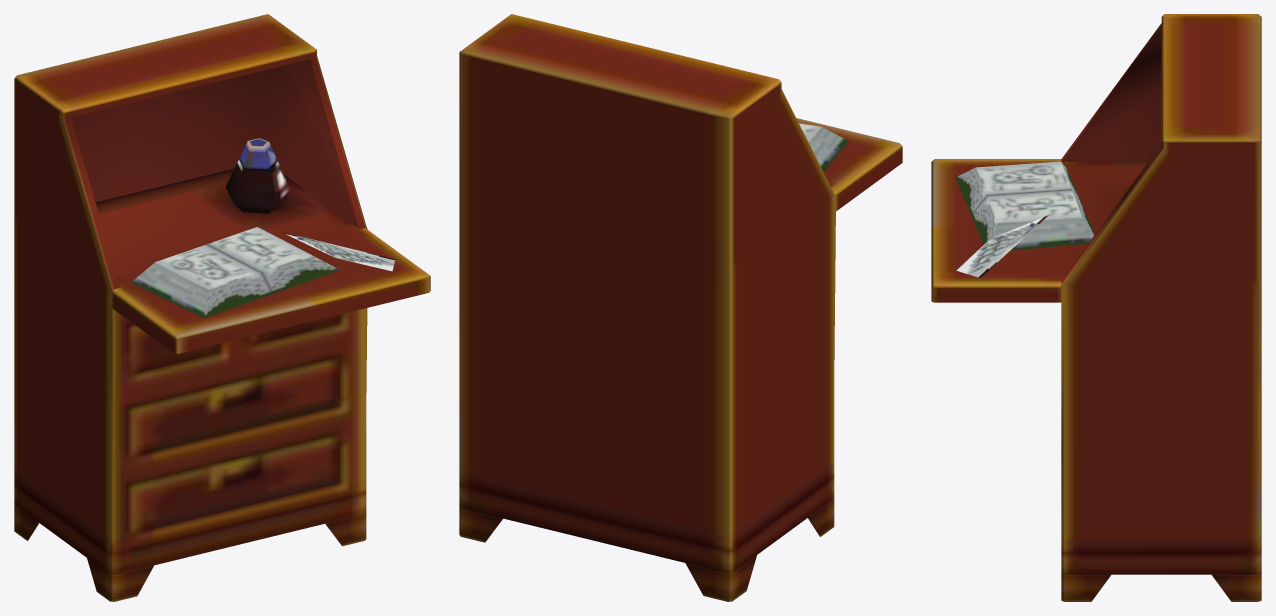
Rendered from rmk_chc_byuro.dae.
The picture shows the model from 3 angles, left to right: view 1: azimuth 30°, elevation 25°; view 2: azimuth 150°, elevation 25°; view 3: azimuth 270°, elevation 25°; orthographic projection. The views are drawn at different scales.
Visible parts, largest first — view 1: rmk_chc_byuro; view 2: rmk_chc_byuro; view 3: rmk_chc_byuro.
Part boxes in pixels (x1,y1,x2,y2): rmk_chc_byuro: (14,14,430,601); rmk_chc_byuro: (459,14,902,601); rmk_chc_byuro: (931,14,1261,601).
Size of the model in its own units: 24.03 by 40.8 by 26.4.
Materials: 1 (1 with a texture image).
